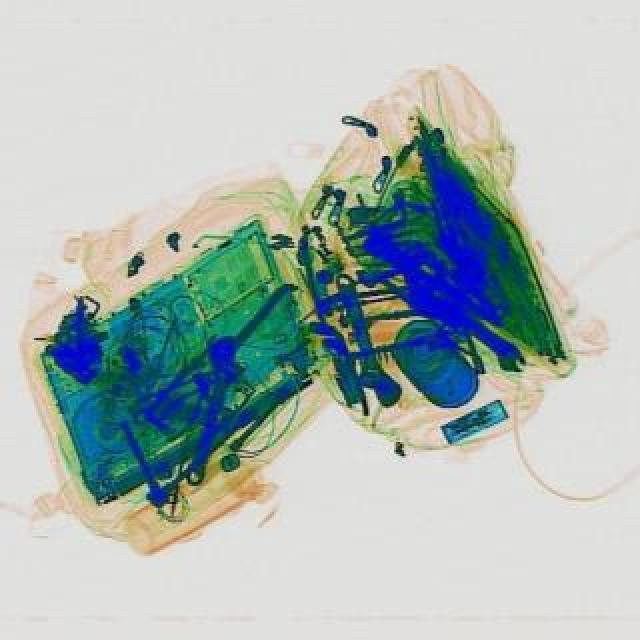scissors: (172, 332, 252, 488), (322, 268, 404, 412), (126, 386, 236, 438), (456, 312, 532, 378)
wrench: (144, 370, 222, 444)
